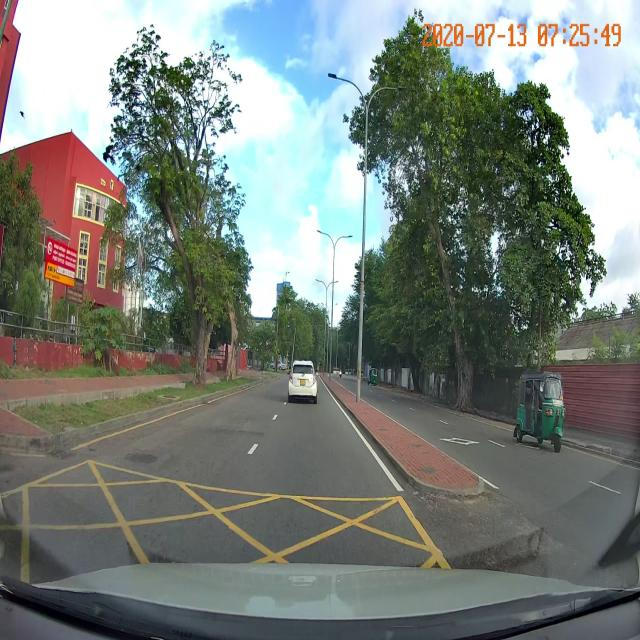Jeltaya razmetka: (1, 448, 459, 591)
